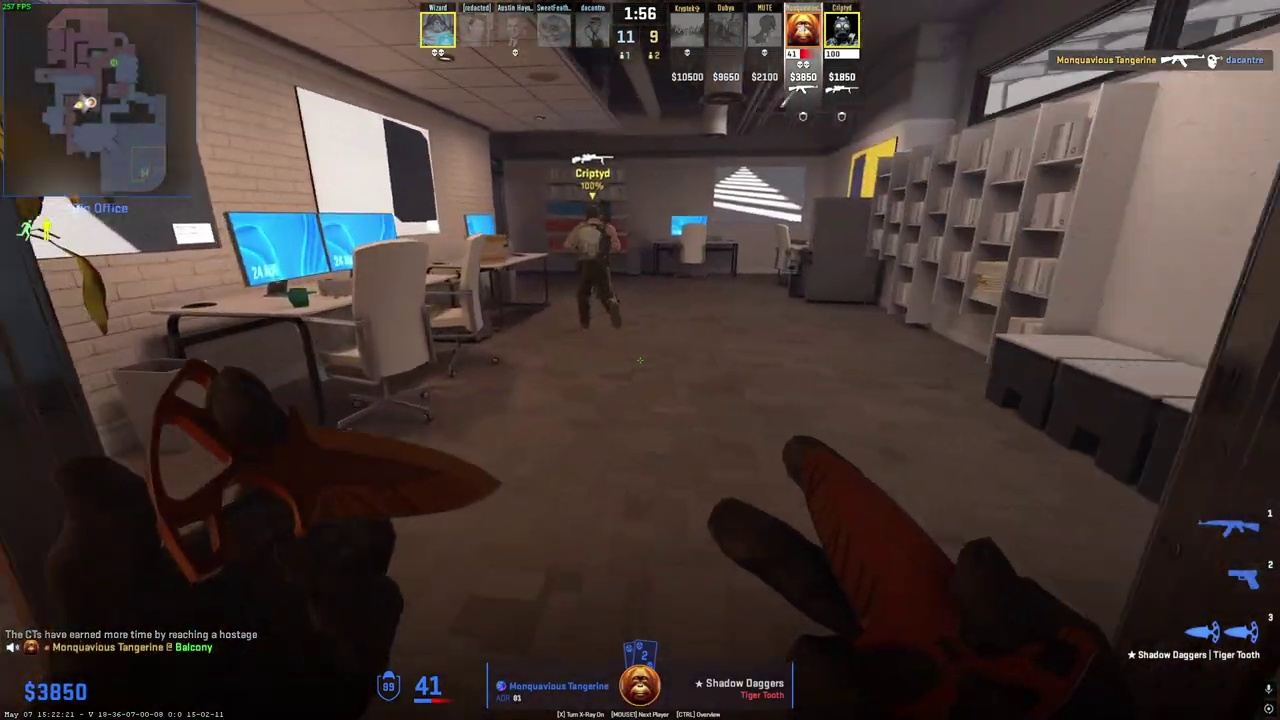Terrorist: (566, 205, 622, 330)
